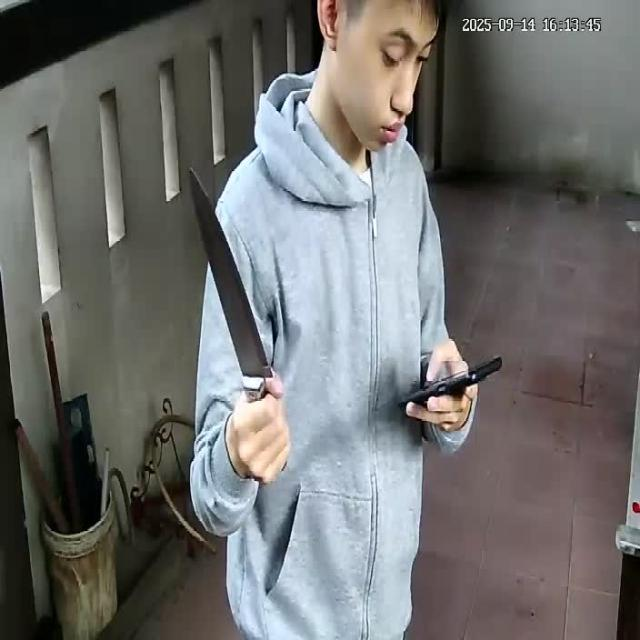senjata_tajam: (186, 166, 275, 403)
